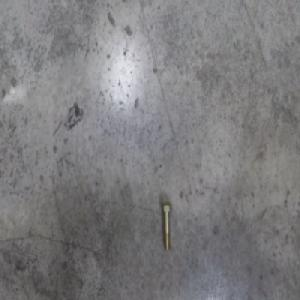Bolt: (161, 203, 173, 253)
